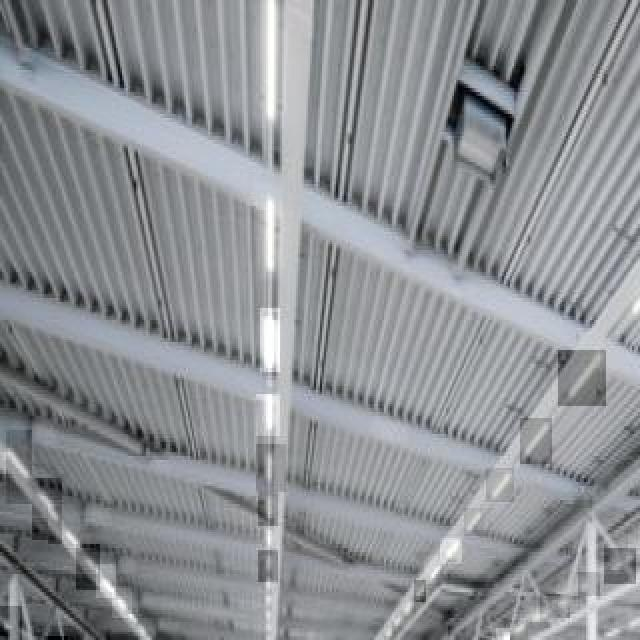fluorescent tube: (546, 329, 609, 415), (243, 0, 285, 127), (251, 196, 289, 280), (253, 302, 280, 382), (514, 418, 551, 462), (604, 549, 632, 584), (628, 242, 640, 320), (487, 469, 515, 496)
